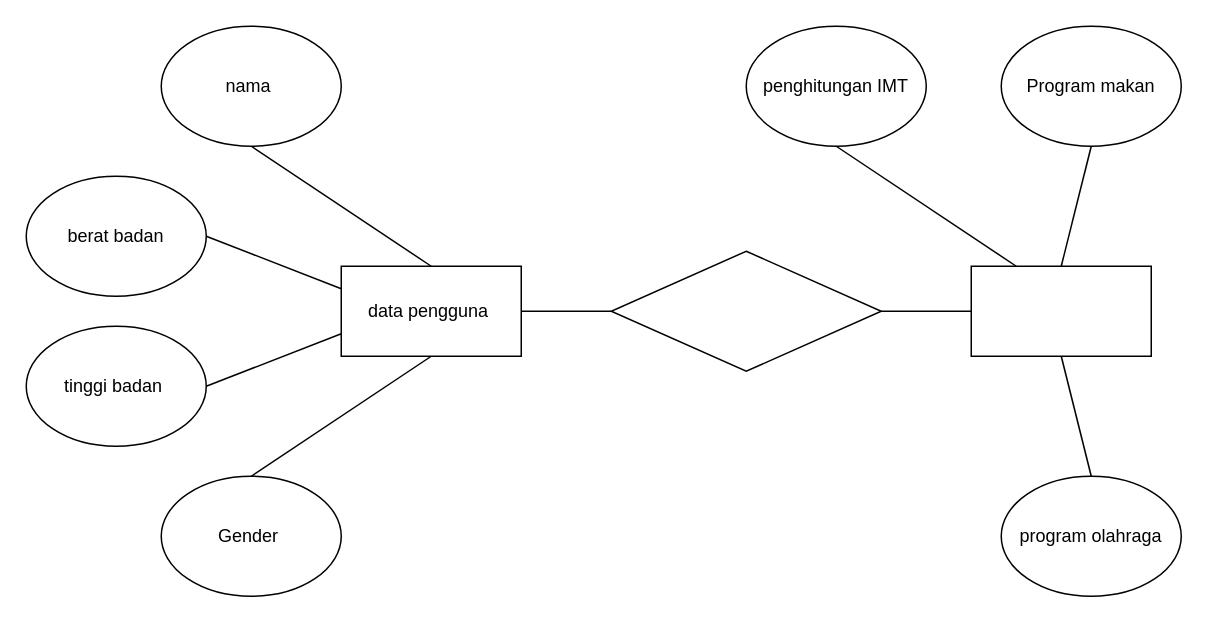
Image size: 1208x623. Some labels were removed from this diagram. The centre of each missing label's shape, as x and y in pixels:
mengambil: point (745, 310)
program kesehatan: point (1060, 310)
